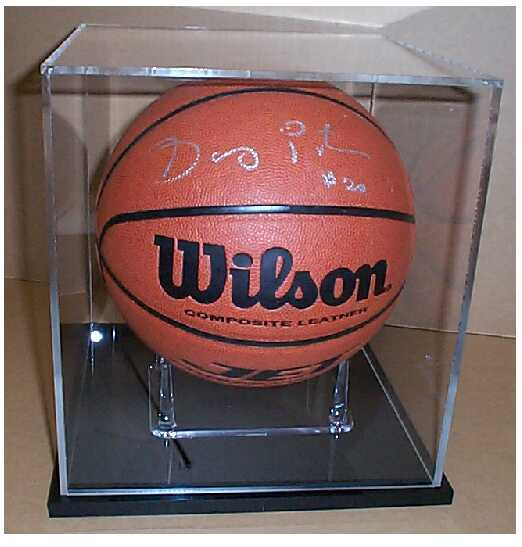basketball: (94, 80, 418, 388)
